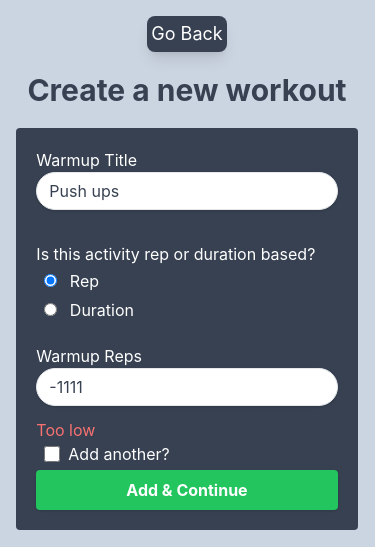
Test: Check the workout creation functionality › submits a valid warmup with valid data
Replace the text in the number field with test id "repsInput" with "5" at (187, 387), box [36,368,337,406]
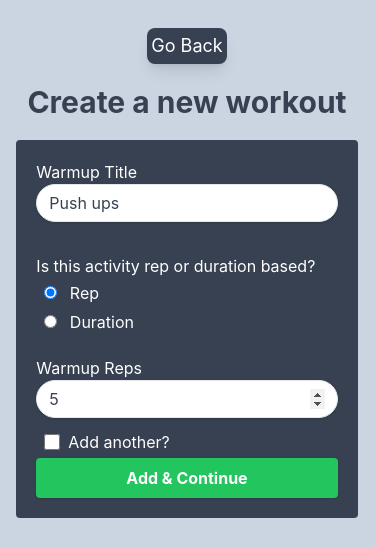
Click the button with test id "SubmitButton".
click(187, 478)  # box [36,458,337,498]
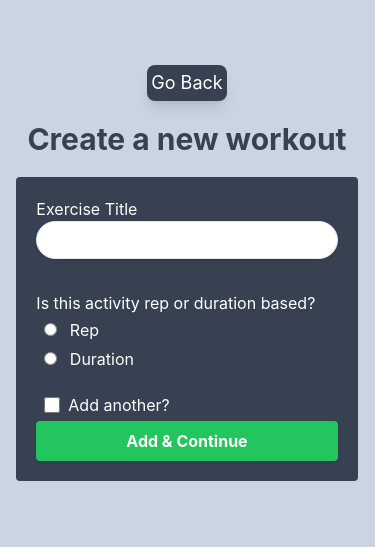
Now the text "exercise" is shown, box [36,199,137,219]
